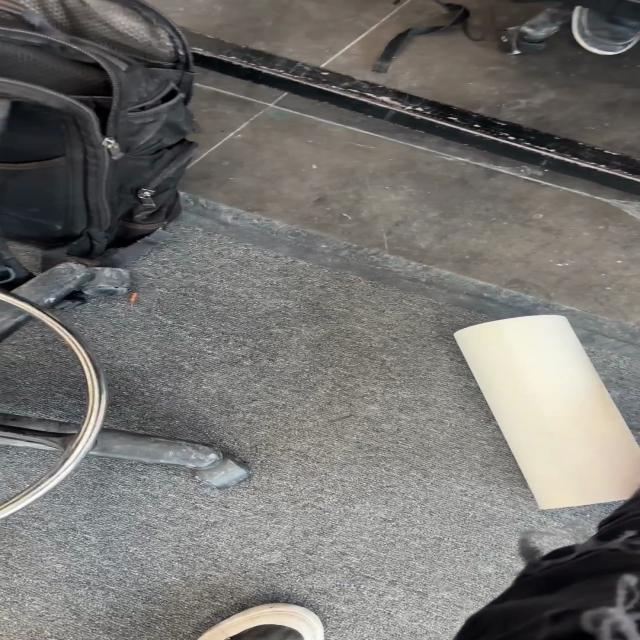Coral: (452, 313, 638, 510)
